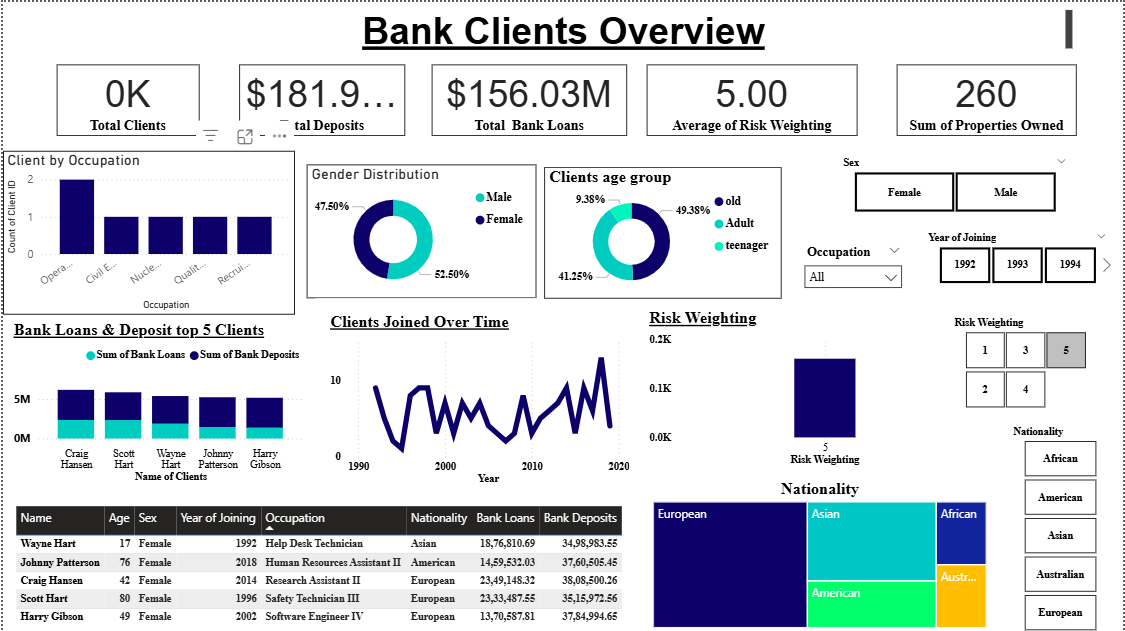

The page's visual inventory and layout, read from the dashboard file:
{"tool":"powerbi","page":{"name":"Page 1","canvas":[1280,720],"ordinal":0},"visuals":[{"type":"donutChart","title":"Gender Distribution","fields":{"Category":["Banking_Clients.Sex"],"Y":["Banking_Clients.Client ID"]},"box":[347.7,185.8,262.3,153.1],"z":0},{"type":"lineChart","title":"Clients Joined Over Time","fields":{"Y":["Banking_Clients.Client ID"],"Category":["Banking_Clients.Year of Joining"]},"box":[357.6,338.5,363.6,213.4],"z":1000},{"type":"columnChart","title":"Risk Weighting","fields":{"Category":["Banking_Clients.Risk Weighting"],"Y":["Banking_Clients.Client ID"]},"box":[721.7,338.9,389.1,192],"z":2000},{"type":"treemap","title":"Nationality","fields":{"Values":["Banking_Clients.Client ID"],"Group":["Banking_Clients.Nationality"]},"box":[739.3,546,390.4,174.5],"z":3000},{"type":"donutChart","title":"Clients age group","fields":{"Category":["Banking_Clients.age group"],"Y":["Banking_Clients.Client ID"]},"box":[618.8,188.3,271.1,150.6],"z":4000},{"type":"card","fields":{"Values":["Banking_Clients.Bank Deposits"]},"box":[269.9,71.5,189.5,81.6],"z":5000},{"type":"card","fields":{"Values":["Banking_Clients.Bank Loans"]},"box":[489.5,71.5,223.4,81.6],"z":6000},{"type":"card","title":"total client","fields":{"Values":["Banking_Clients.Client ID"]},"box":[61.5,71.5,163.2,81.6],"z":7000},{"type":"card","fields":{"Values":["Banking_Clients.Risk Weighting"]},"box":[735.5,71.3,241,81.6],"z":8000},{"type":"card","fields":{"Values":["Banking_Clients.Properties Owned"]},"box":[1021.7,71.3,205.8,81.6],"z":9000},{"type":"columnChart","title":" Bank Loans & Deposit top 5 Clients","fields":{"Category":["Banking_Clients.Name"],"Y":["Banking_Clients.Bank Loans","Banking_Clients.Bank Deposits"]},"box":[7.2,360,340.9,191.9],"z":10000},{"type":"slicer","fields":{"Values":["Banking_Clients.Sex"]},"box":[947.6,177,279.9,64],"z":11000},{"type":"slicer","fields":{"Values":["Banking_Clients.Nationality"]},"box":[1140.9,484.5,131.8,236],"z":12000},{"type":"lineStackedColumnComboChart","title":" Client by Occupation","fields":{"Category":["Banking_Clients.Occupation"],"Y":["Banking_Clients.Client ID"]},"box":[0,169.4,333.9,187],"z":13000},{"type":"slicer","fields":{"Values":["Banking_Clients.Occupation"]},"box":[905.7,277.1,131.4,54.3],"z":14000},{"type":"slicer","fields":{"Values":["Banking_Clients.Year of Joining"]},"box":[1044.3,262.3,228.4,65.3],"z":15000},{"type":"tableEx","fields":{"Values":["Banking_Clients.Name","Banking_Clients.Age","Banking_Clients.Sex","Banking_Clients.Year of Joining","Banking_Clients.Occupation","Banking_Clients.Nationality","Banking_Clients.Bank Loans","Banking_Clients.Bank Deposits"]},"box":[0,571.1,721.7,149.4],"z":16000},{"type":"textbox","box":[61.5,3.8,1166,56.5],"z":17000},{"type":"slicer","fields":{"Values":["Banking_Clients.Risk Weighting"]},"box":[1074.4,360.2,187,105.4],"z":18000}]}

Visuals, with their boxes in screenshot pixels (x1, y1, x2, y2), scaled from the page's 1280x720 canvas onto the 1125x631 screenshot:
"Gender Distribution" donutChart: select_region(306, 163, 536, 297)
"Clients Joined Over Time" lineChart: select_region(314, 297, 634, 484)
"Risk Weighting" columnChart: select_region(634, 297, 976, 465)
"Nationality" treemap: select_region(650, 479, 993, 630)
"Clients age group" donutChart: select_region(544, 165, 782, 297)
card - Banking_Clients.Bank Deposits: select_region(237, 63, 404, 134)
card - Banking_Clients.Bank Loans: select_region(430, 63, 627, 134)
"total client" card: select_region(54, 63, 197, 134)
card - Banking_Clients.Risk Weighting: select_region(646, 62, 858, 134)
card - Banking_Clients.Properties Owned: select_region(898, 62, 1079, 134)
" Bank Loans & Deposit top 5 Clients" columnChart: select_region(6, 316, 306, 484)
slicer - Banking_Clients.Sex: select_region(833, 155, 1079, 211)
slicer - Banking_Clients.Nationality: select_region(1003, 425, 1119, 630)
" Client by Occupation" lineStackedColumnComboChart: select_region(0, 148, 293, 312)
slicer - Banking_Clients.Occupation: select_region(796, 243, 912, 290)
slicer - Banking_Clients.Year of Joining: select_region(918, 230, 1119, 287)
tableEx - Banking_Clients.Name x Banking_Clients.Age: select_region(0, 501, 634, 630)
textbox: select_region(54, 3, 1079, 53)
slicer - Banking_Clients.Risk Weighting: select_region(944, 316, 1109, 408)
